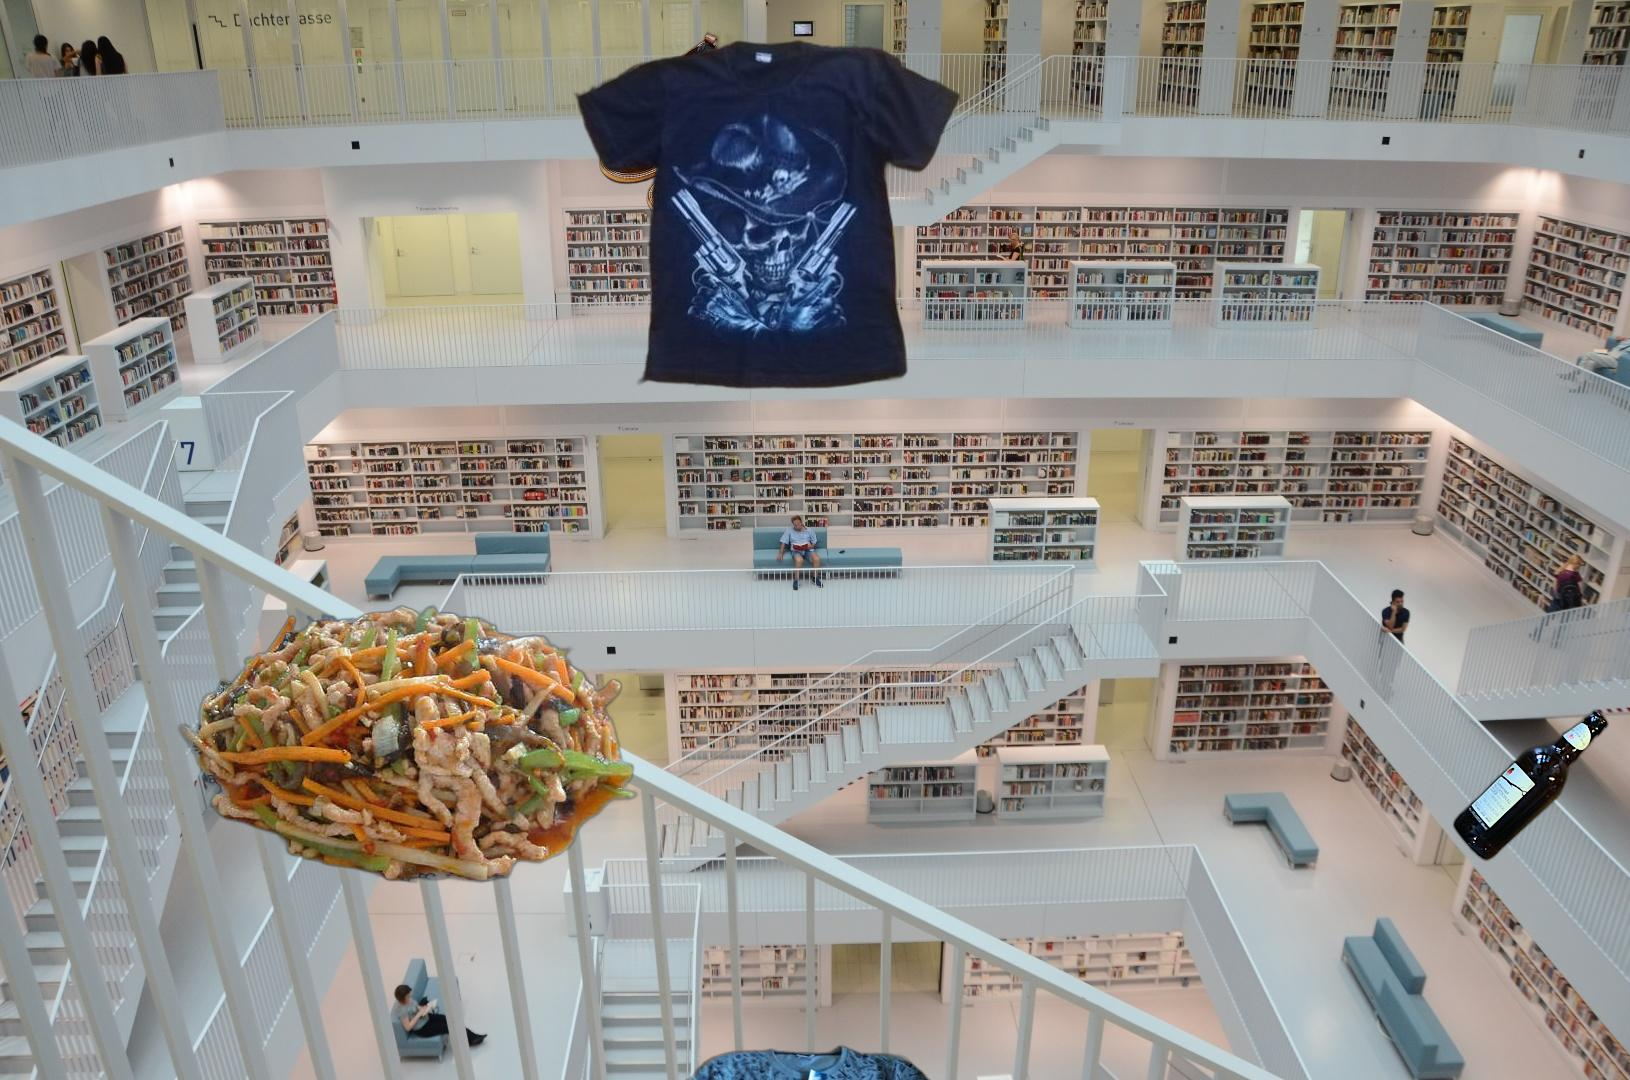biological: (175, 599, 641, 884)
clothes: (572, 39, 964, 392), (639, 1041, 973, 1080)
glass: (1448, 704, 1612, 865)
shoes: (598, 16, 811, 225)
